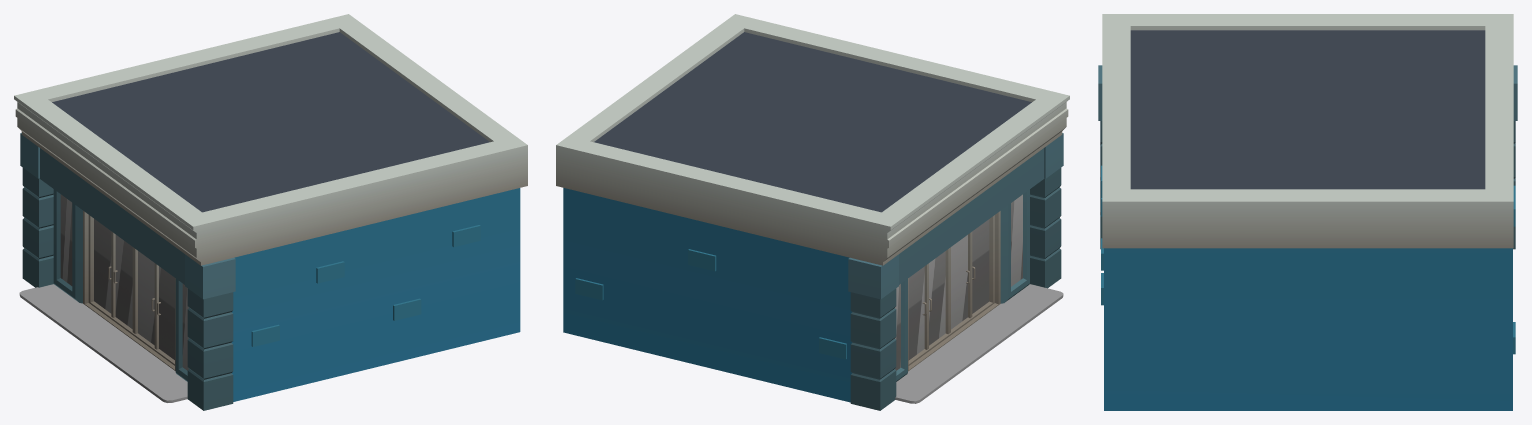
File: Building_21_5_J.glb
3 views of the same model, side by side, from view 1: azimuth 30°, elevation 25°; view 2: azimuth 150°, elevation 25°; view 3: azimuth 270°, elevation 25° (orthographic). The views are drawn at different scales.
Parts seen in each view (by area): view 1: Building_21_5_J; view 2: Building_21_5_J; view 3: Building_21_5_J.
Part boxes in pixels (x1,y1,x2,y2): Building_21_5_J: (14,14,527,410); Building_21_5_J: (556,14,1069,410); Building_21_5_J: (1098,14,1517,410).
Bounding box in the file's own units: 7.79 × 4 × 7.13.
3 materials, 3 textured.
